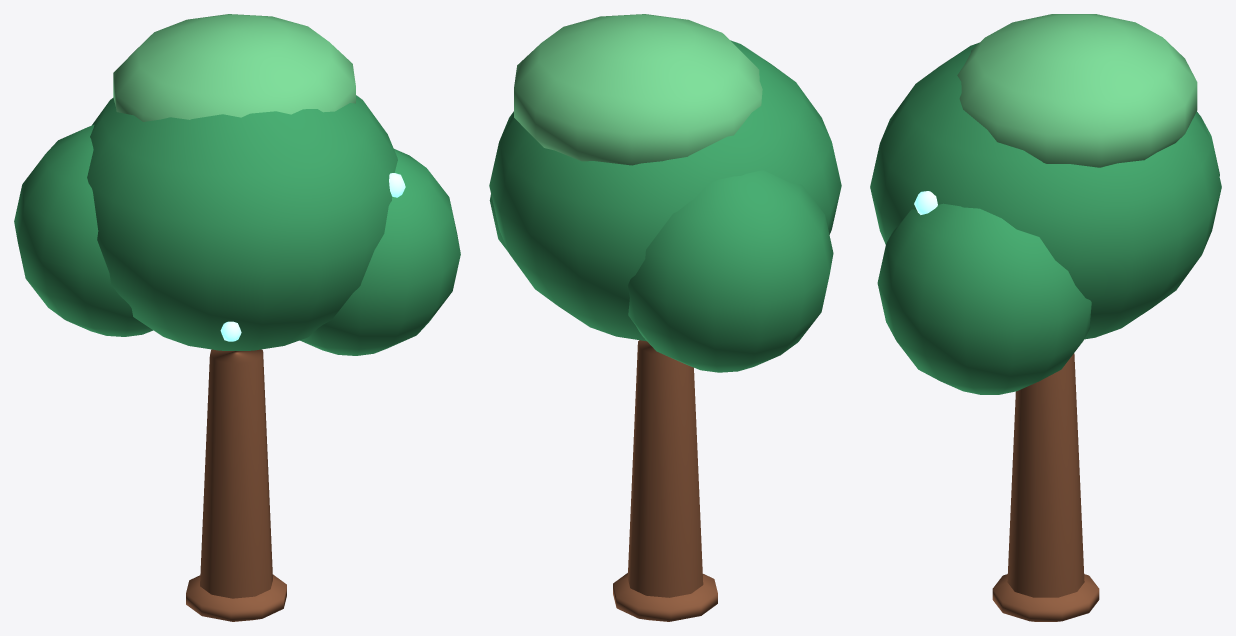
Rendered from tree_round.glb.
3 views of the same model, side by side, from view 1: azimuth 30°, elevation 25°; view 2: azimuth 150°, elevation 25°; view 3: azimuth 270°, elevation 25° (orthographic). The views are drawn at different scales.
Visible parts, largest first — view 1: Tree.001; view 2: Tree.001; view 3: Tree.001.
Part boxes in pixels (x1,y1,x2,y2): Tree.001: (14,14,460,621); Tree.001: (489,14,841,621); Tree.001: (870,14,1221,621).
Size of the model in its own units: 1.52 by 2.3 by 1.25.
